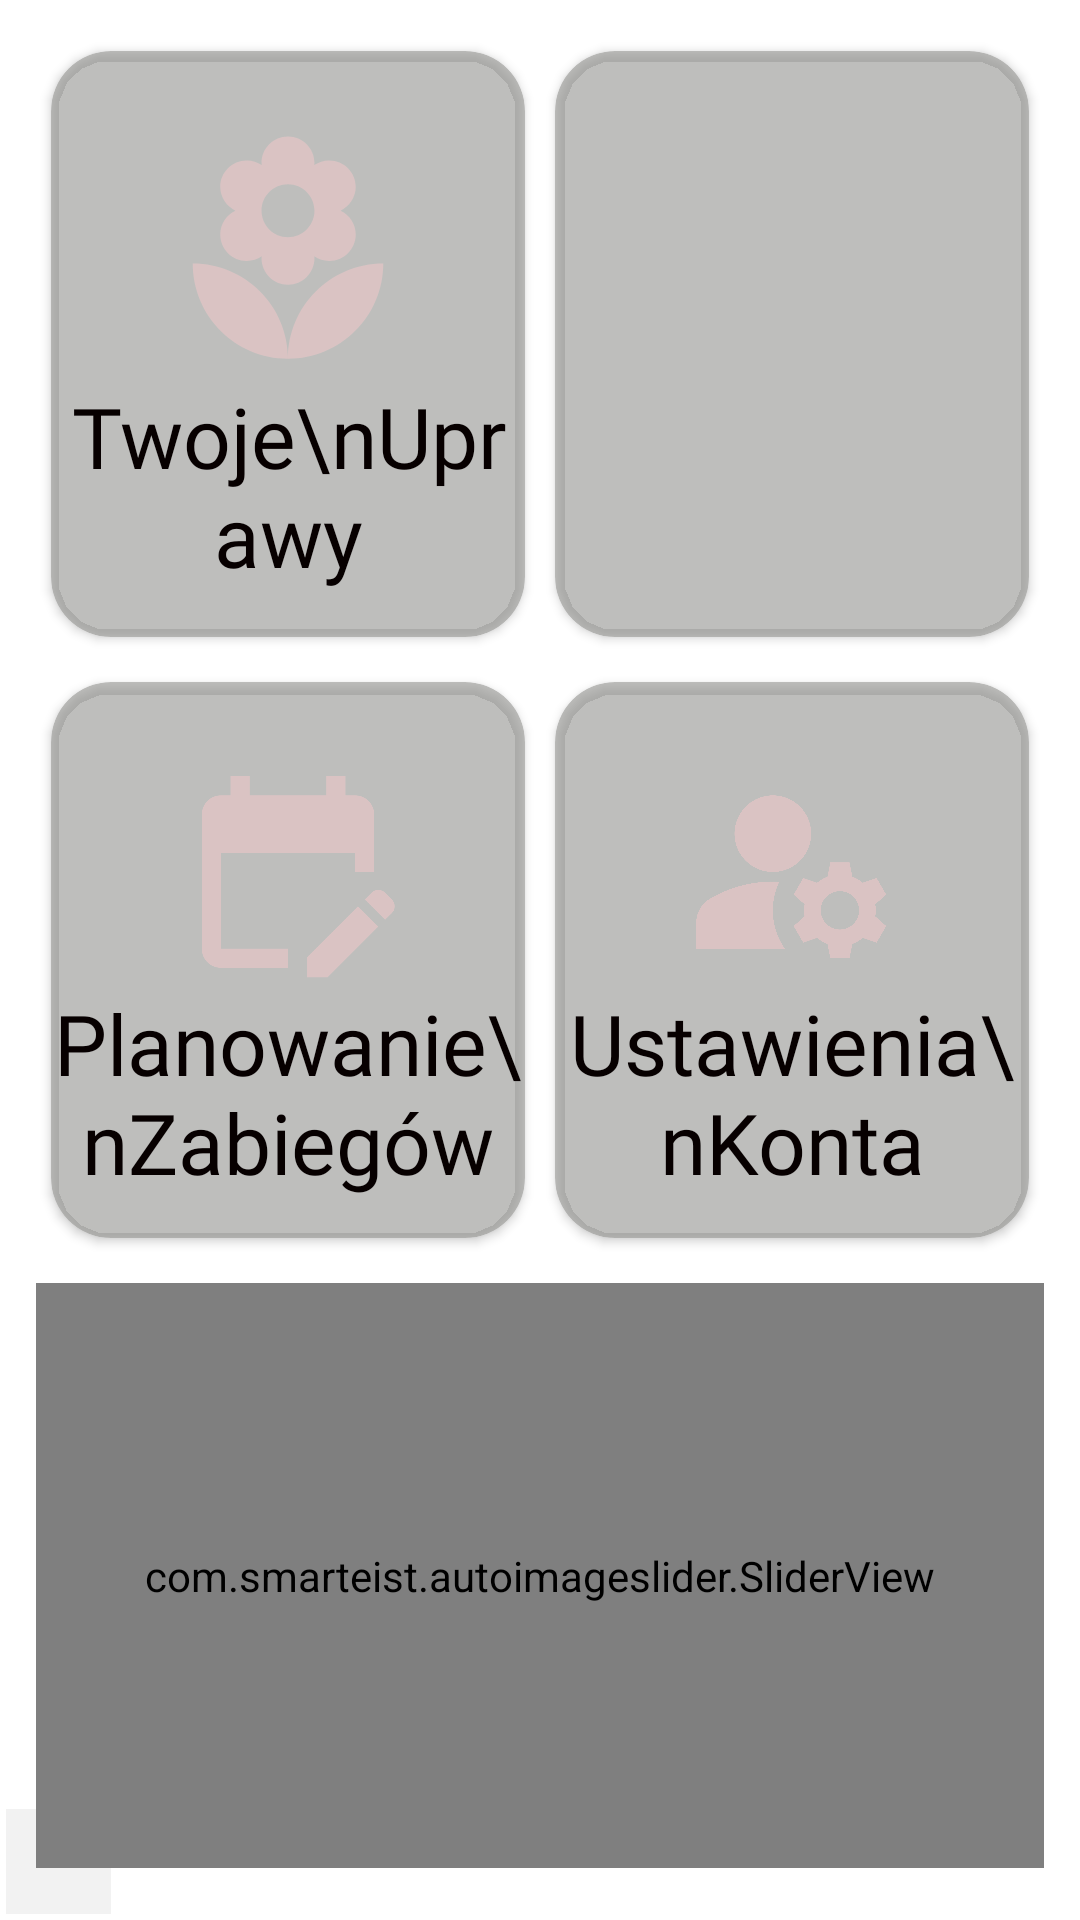

Screen size 1080x1920. Icon name, then its box in pixels as (x1=x1, y1=y1, x2=x2, y2=y2):
local florist: (x1=193, y1=137, x2=383, y2=358)
